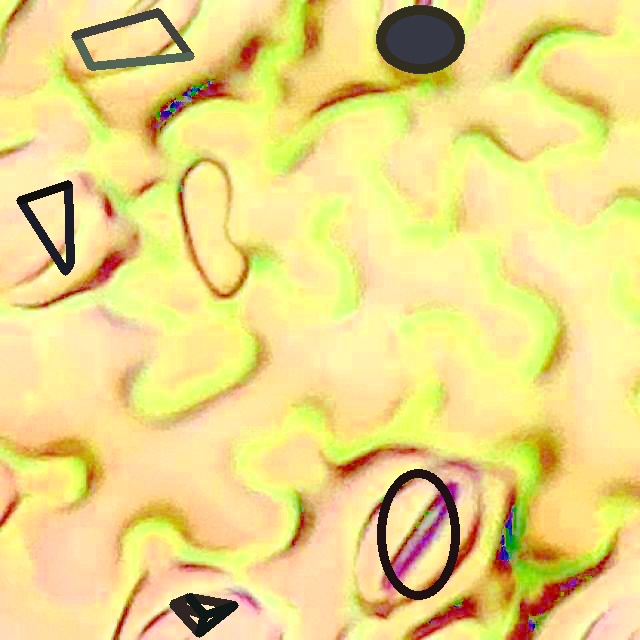close: (16, 180, 74, 275), (169, 593, 238, 637)
open: (376, 468, 460, 600), (71, 8, 194, 70), (376, 5, 464, 73)
